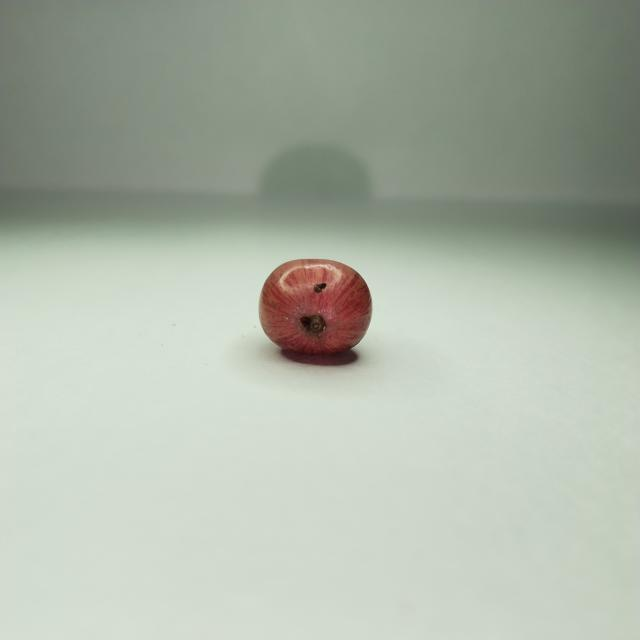Infectado: (258, 259, 374, 367)
